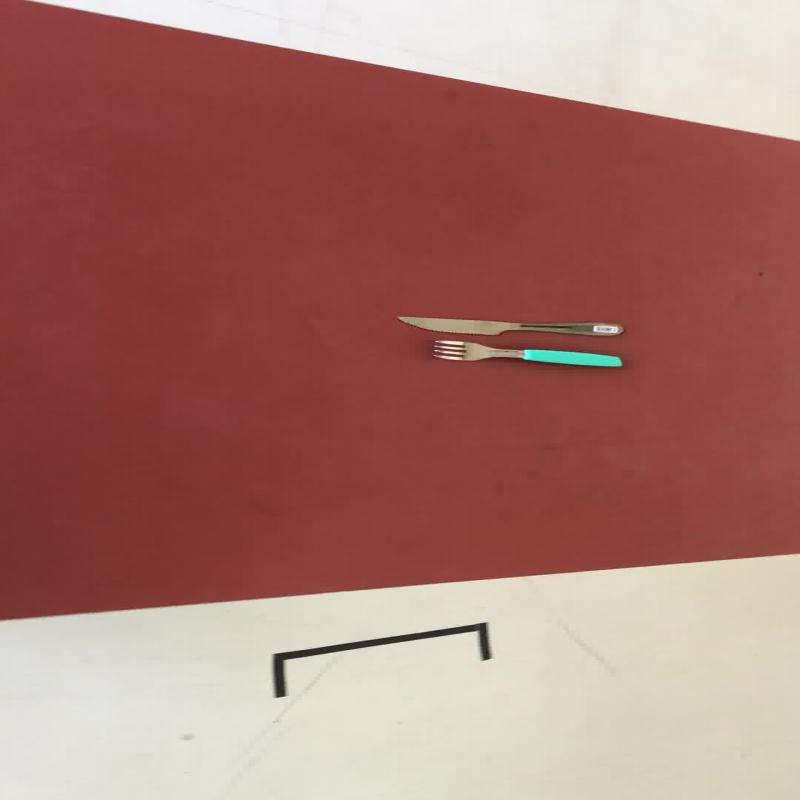fork: (428, 338, 622, 368)
knife: (394, 315, 622, 337)
